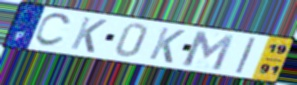0: (112, 22, 149, 59)
C: (32, 12, 74, 49)
I: (233, 36, 258, 75)
K: (146, 25, 187, 65), (68, 15, 109, 54)
M: (181, 29, 237, 72)
